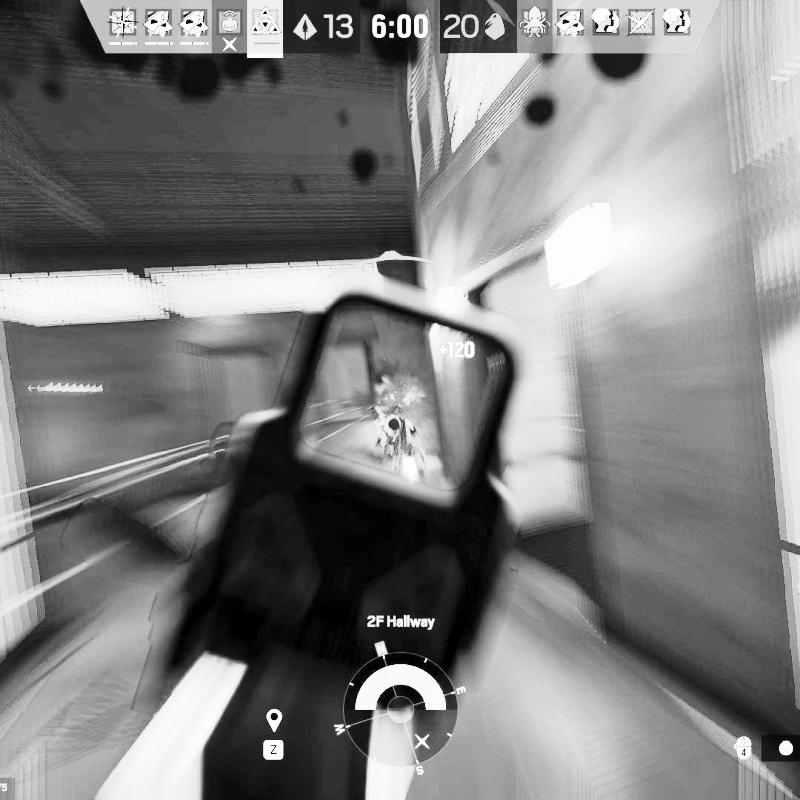Character: (373, 404, 431, 485)
Head: (387, 417, 400, 431)
